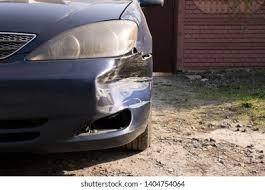front-bumper-dent: (0, 47, 155, 145)
